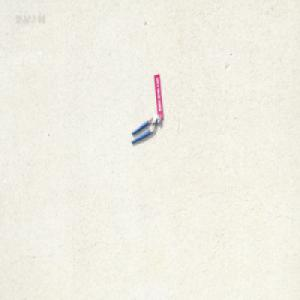Label: (153, 73, 164, 122)
Pliers: (130, 114, 161, 147)
